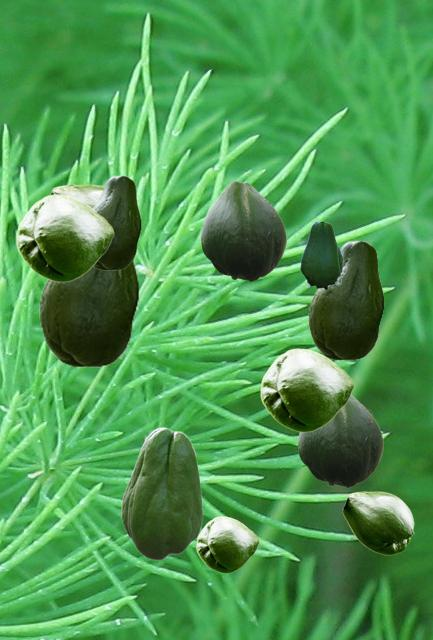sayote: (39, 255, 138, 366), (121, 427, 202, 559), (308, 240, 383, 359), (16, 194, 113, 281), (201, 181, 285, 281), (298, 394, 382, 487), (260, 348, 353, 431), (92, 175, 140, 269), (342, 491, 413, 554), (196, 516, 258, 572), (300, 222, 343, 290), (50, 184, 103, 206)
